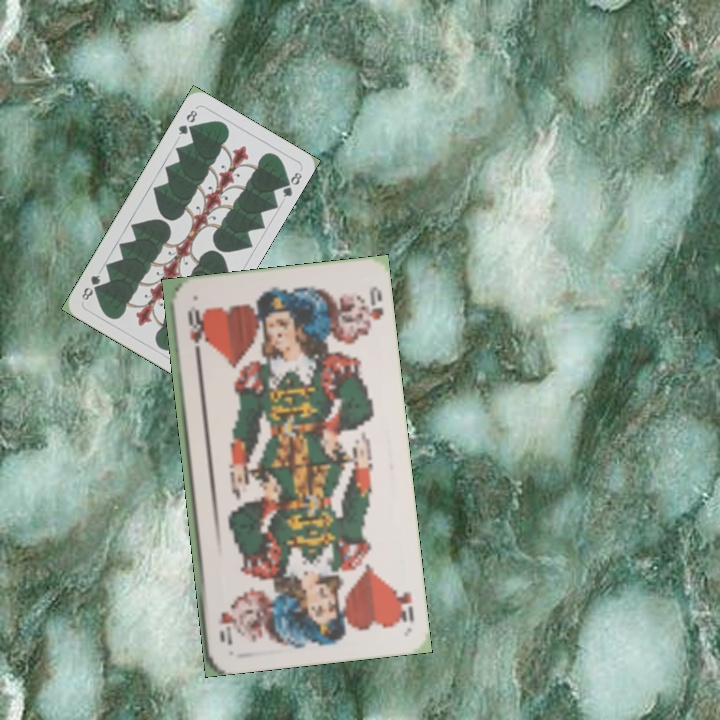G8: (174, 105, 200, 138)
HO: (389, 581, 416, 626), (184, 306, 203, 360)
